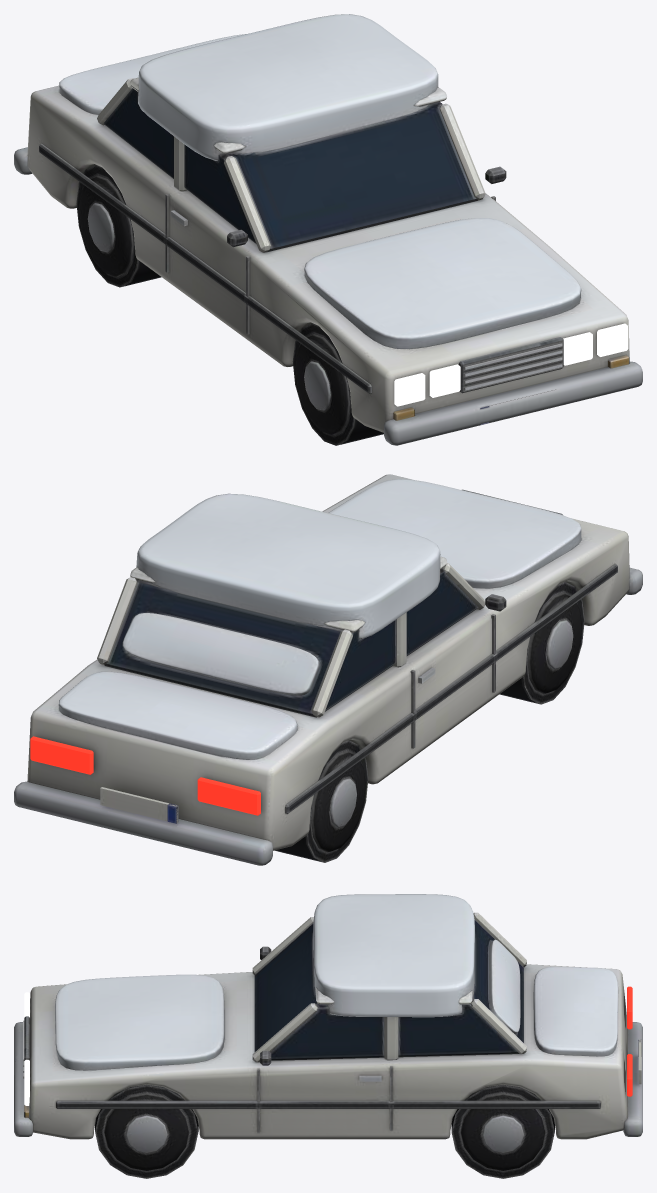
Rendered from car_white.glb.
3 renders of one model, top to bottom at view 1: azimuth 30°, elevation 25°; view 2: azimuth 150°, elevation 25°; view 3: azimuth 270°, elevation 25°, orthographic. The views are drawn at different scales.
Parts seen in each view (by area): view 1: car_white, car_white_glow; view 2: car_white, car_white_glow; view 3: car_white, car_white_glow.
Part boxes in pixels (<box>): car_white: <box>14,14,642,445</box>; car_white_glow: <box>394,323,628,406</box>; car_white: <box>14,474,642,865</box>; car_white_glow: <box>30,531,628,815</box>; car_white: <box>14,894,642,1178</box>; car_white_glow: <box>24,986,632,1105</box>.
Size of the model in its own units: 1.88 by 1.56 by 4.5.
3 materials, 1 textured.
